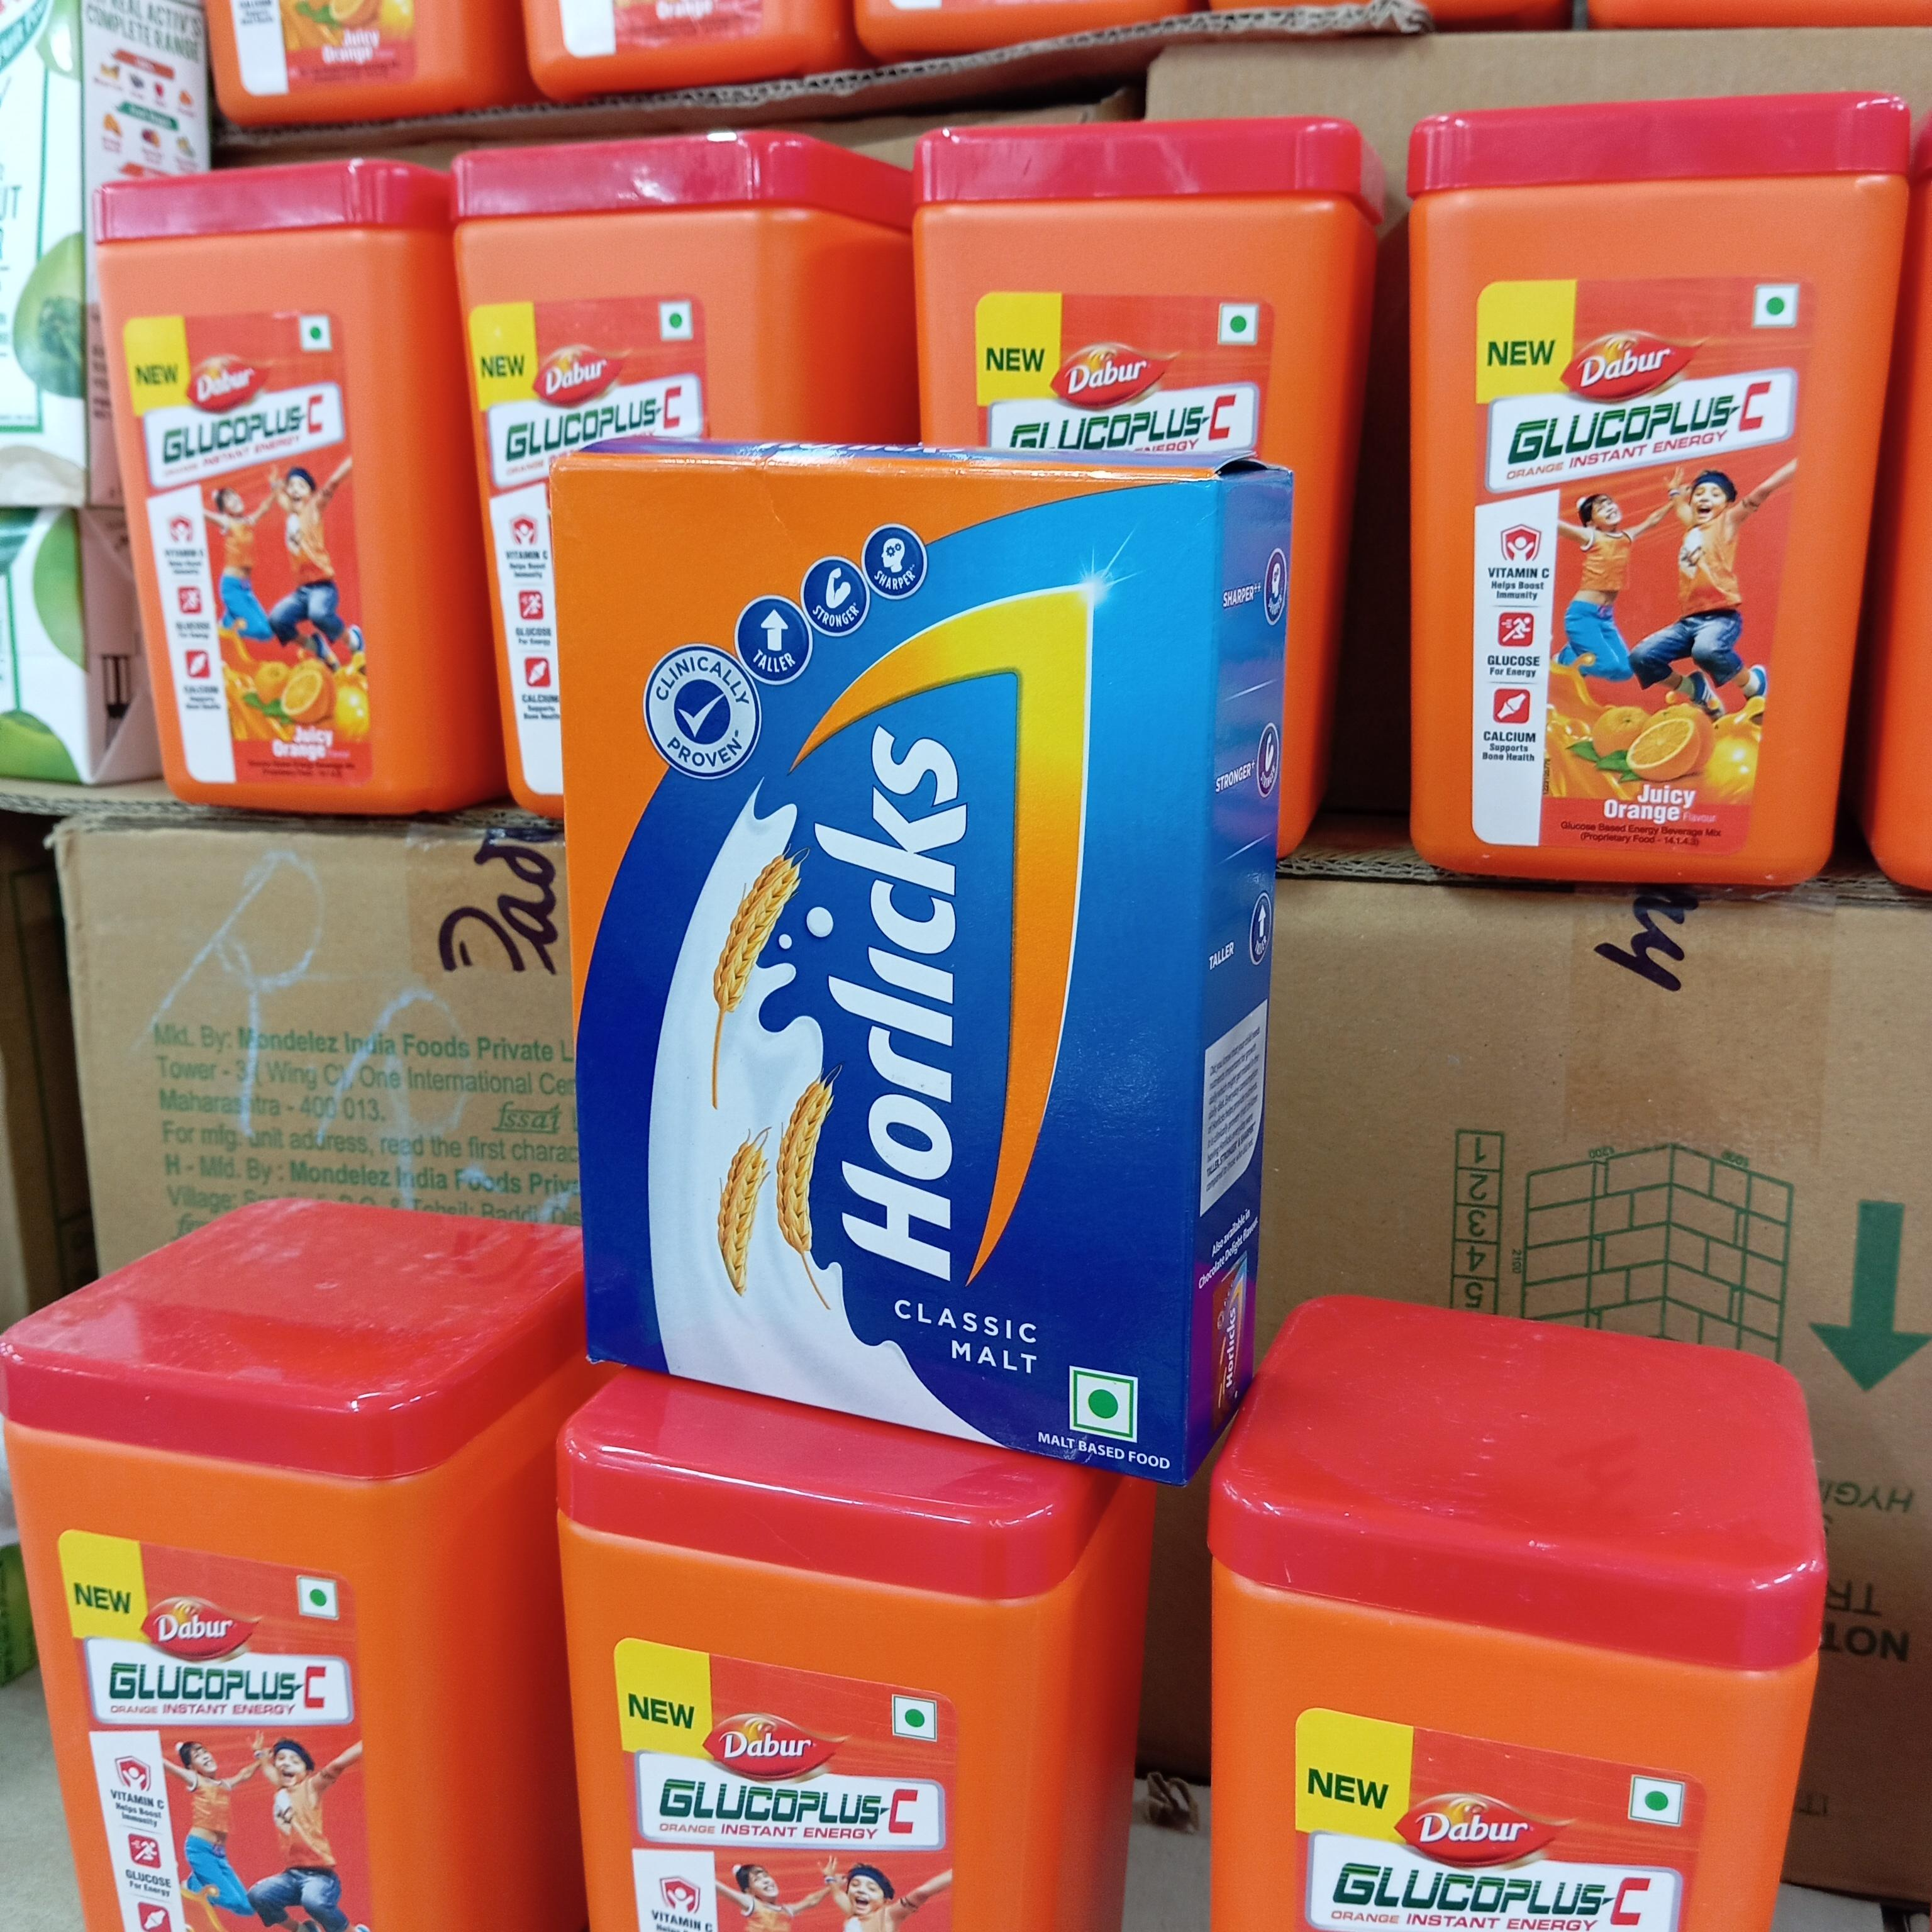HORLICK_CLASSIC_MALT_500_G_PACK: (559, 449, 1196, 1463)
